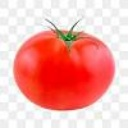tomato: (14, 27, 115, 110)
